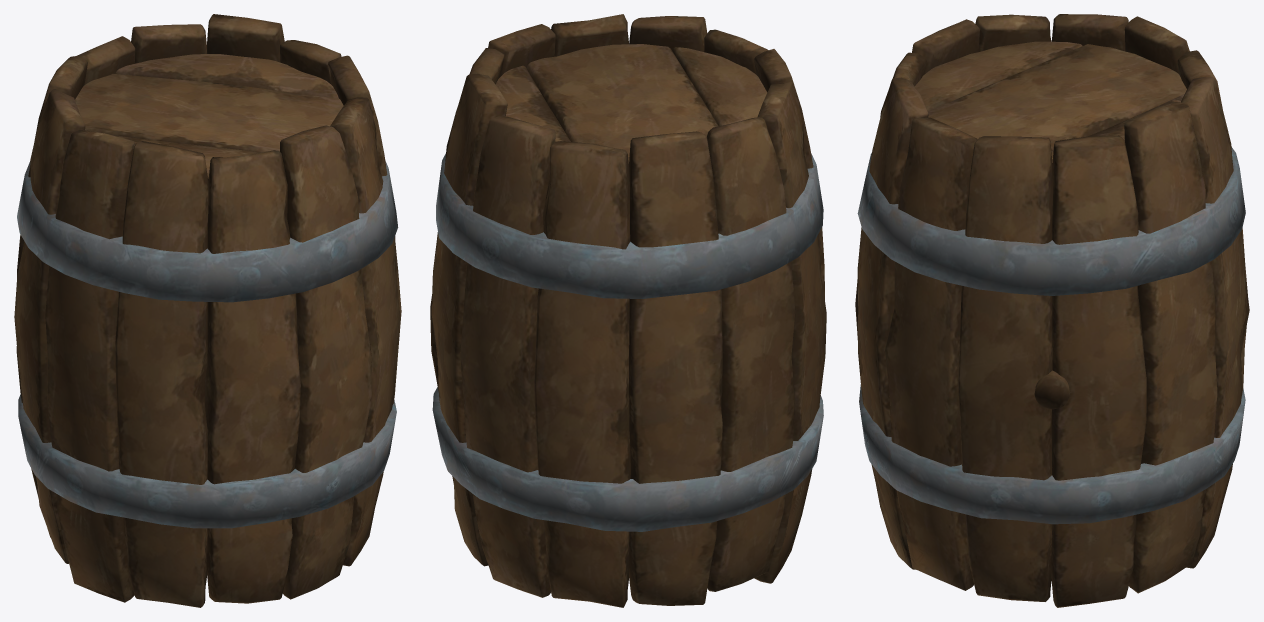
File: wooden_barrel.glb
3 views of the same model, side by side, from view 1: azimuth 30°, elevation 25°; view 2: azimuth 150°, elevation 25°; view 3: azimuth 270°, elevation 25° (orthographic). The views are drawn at different scales.
Parts seen in each view (by area): view 1: M_01.002, base.076, base.075, base.077, base.074, B_01.025, base.078, base.073, B_01.038, base.084, base.083, base.086 (+4 smaller); view 2: M_01.002, base.079, base.080, base.083, base.078, B_01.025, base.077, base.084, B_01.039, B_01.038, base.074, base.073 (+4 smaller); view 3: M_01.002, base.086, base.085, base.084, base.073, B_01.025, base.074, base.083, B_01.039, base.078, base.079, base.077 (+4 smaller).
Part boxes in pixels (x1,y1,x2,y2): M_01.002: [17, 161, 398, 528]; base.076: [115, 141, 208, 607]; base.075: [205, 150, 300, 603]; base.077: [45, 130, 134, 602]; base.074: [280, 125, 371, 599]; B_01.025: [75, 73, 343, 152]; base.078: [14, 89, 85, 563]; base.073: [330, 97, 400, 566]; B_01.038: [115, 54, 338, 98]; base.084: [207, 14, 284, 62]; base.083: [131, 24, 208, 180]; base.086: [328, 55, 401, 403]; M_01.002: [432, 153, 823, 531]; base.079: [629, 131, 722, 605]; base.080: [534, 141, 630, 607]; base.083: [460, 116, 555, 597]; base.078: [707, 117, 795, 591]; B_01.025: [526, 44, 718, 163]; base.077: [754, 81, 826, 583]; base.084: [431, 73, 507, 566]; B_01.039: [672, 47, 767, 126]; B_01.038: [495, 65, 570, 141]; base.074: [629, 16, 707, 51]; base.073: [551, 14, 628, 133]; M_01.002: [857, 147, 1245, 524]; base.086: [958, 136, 1053, 601]; base.085: [1051, 135, 1146, 607]; base.084: [1124, 101, 1217, 593]; base.073: [884, 117, 977, 590]; B_01.025: [927, 44, 1186, 150]; base.074: [857, 77, 928, 569]; base.083: [1181, 77, 1249, 568]; B_01.039: [915, 41, 1082, 110]; base.078: [1051, 14, 1128, 51]; base.079: [1124, 16, 1189, 73]; base.077: [975, 14, 1051, 51].
Bounding box in the file's own units: 0.7211 × 0.9478 × 0.7082.
Materials: 1 (1 with a texture image).
